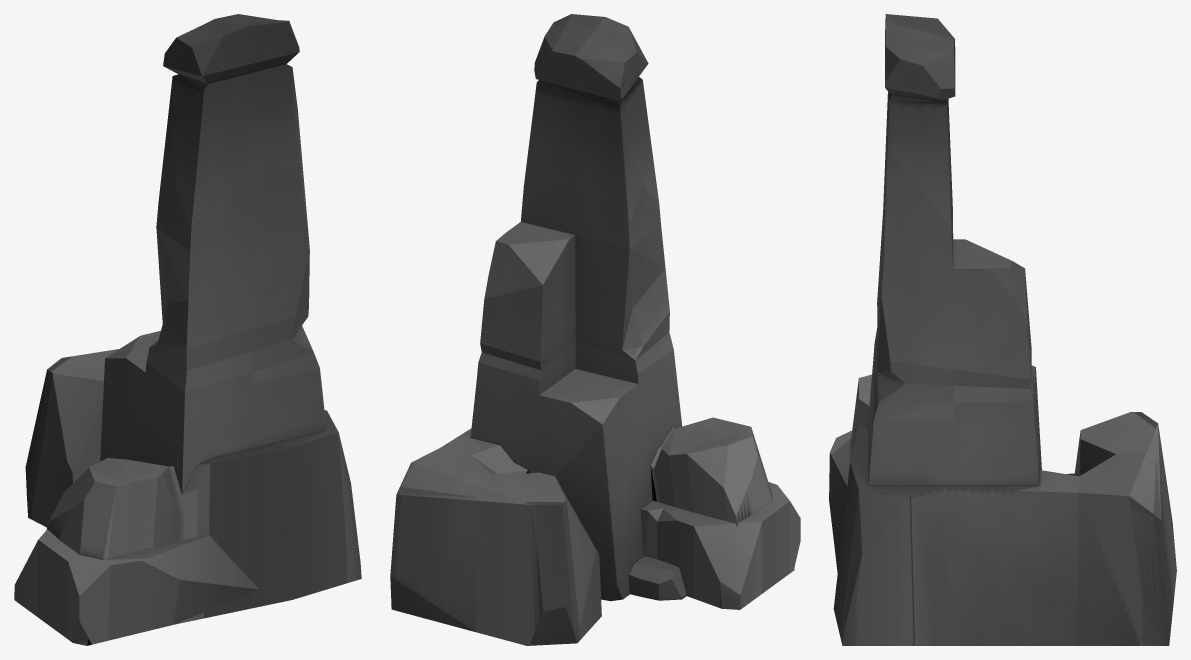
Rendered from rock7.glb.
The picture shows the model from 3 angles, left to right: view 1: azimuth 30°, elevation 25°; view 2: azimuth 150°, elevation 25°; view 3: azimuth 270°, elevation 25°; orthographic projection. The views are drawn at different scales.
Visible parts, largest first — view 1: rock_big02; view 2: rock_big02; view 3: rock_big02.
Part boxes in pixels (box(x1,y1,x2,y2)): rock_big02: box(14, 14, 361, 645); rock_big02: box(390, 14, 800, 645); rock_big02: box(829, 14, 1176, 645).
Bounding box in the file's own units: 0.75 × 1.42 × 0.7775.
1 material, 1 textured.
